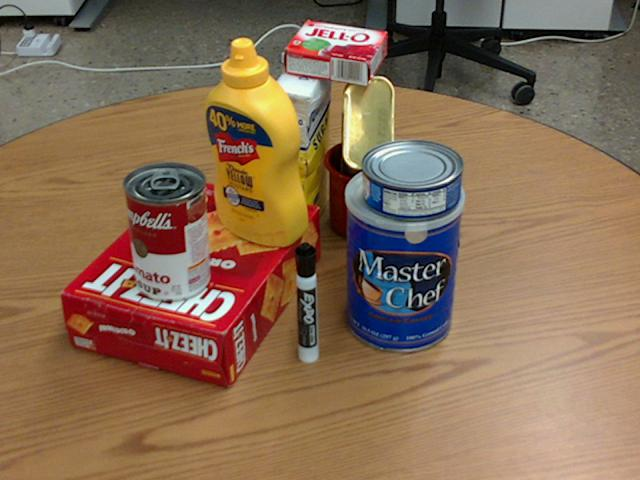cracker_box: (62, 182, 320, 388)
gelatin_box: (281, 21, 387, 85)
large_marker: (295, 242, 318, 363)
master_chef_can: (343, 161, 462, 351)
mug: (326, 137, 434, 240)
mustard_bottle: (202, 37, 306, 245)
potted_meat_can: (340, 77, 393, 191)
sugar_box: (271, 53, 332, 243)
tomato_soup_can: (122, 161, 210, 301)
tuna_fish_can: (360, 138, 463, 219)
